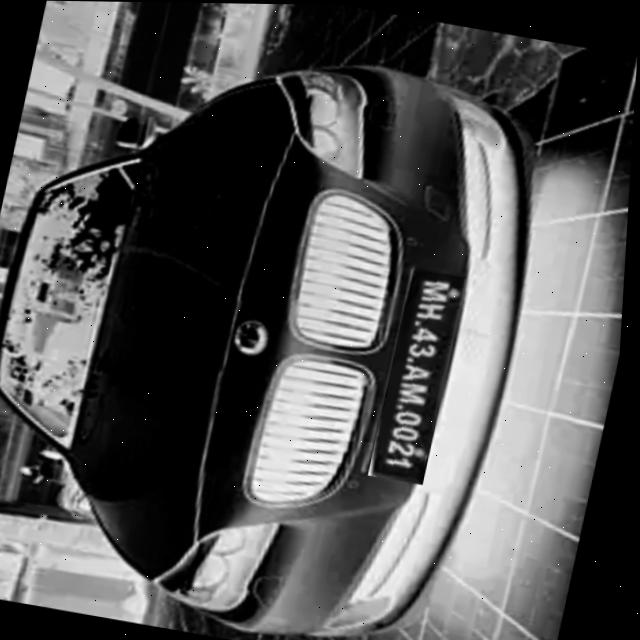Non_registered: (373, 267, 471, 483)
